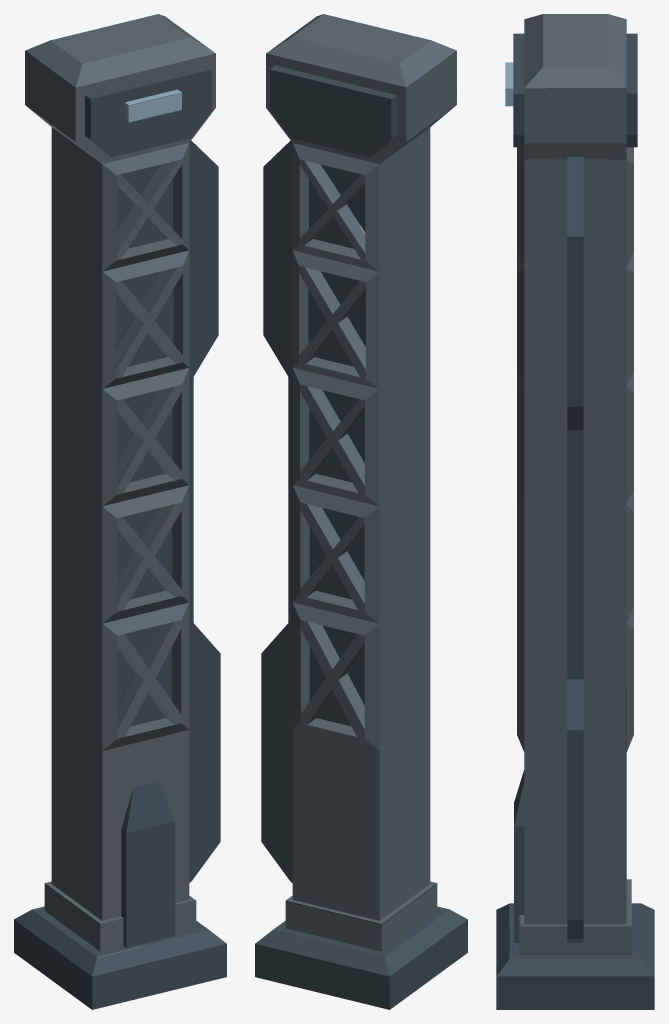
File: gate_power_L.fbx
3 renders of one model, left to right at view 1: azimuth 30°, elevation 25°; view 2: azimuth 150°, elevation 25°; view 3: azimuth 270°, elevation 25°, orthographic.
Parts seen in each view (by area): view 1: fence_electric_gate_L; view 2: fence_electric_gate_L; view 3: fence_electric_gate_L.
Boxes of the visible parts, bbox=[...] form: fence_electric_gate_L: bbox=[14, 14, 226, 1009]; fence_electric_gate_L: bbox=[255, 14, 467, 1009]; fence_electric_gate_L: bbox=[496, 14, 654, 1009].
Size of the model in its own units: 104 by 556 by 85.04.
